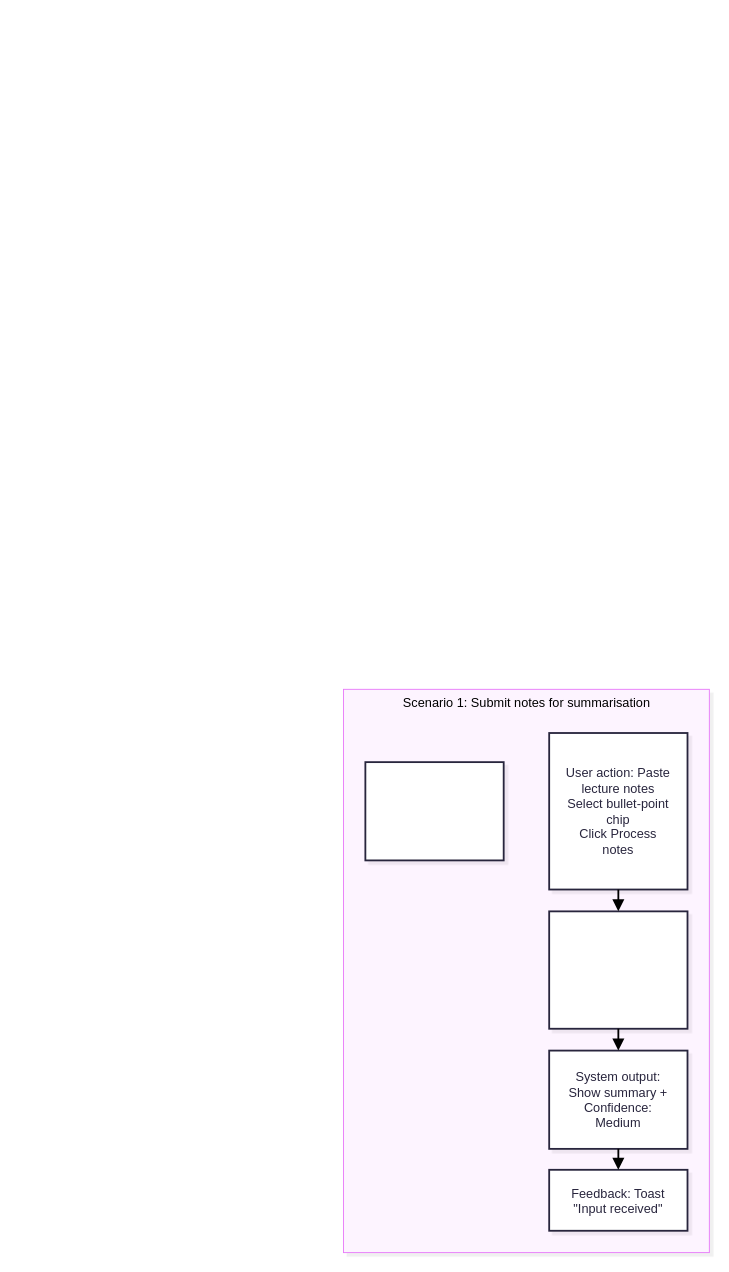
Some shapes in this 729 by 1272 pixel diagram are drawn without their labels. The centre of each missing label's shape, as x and y in pixels:
"System: Run simulated context assembly Call mock LLM" goes at [620,971].
"Target gulfs: Gulf of execution Gulf of evaluation" goes at [436,812].
